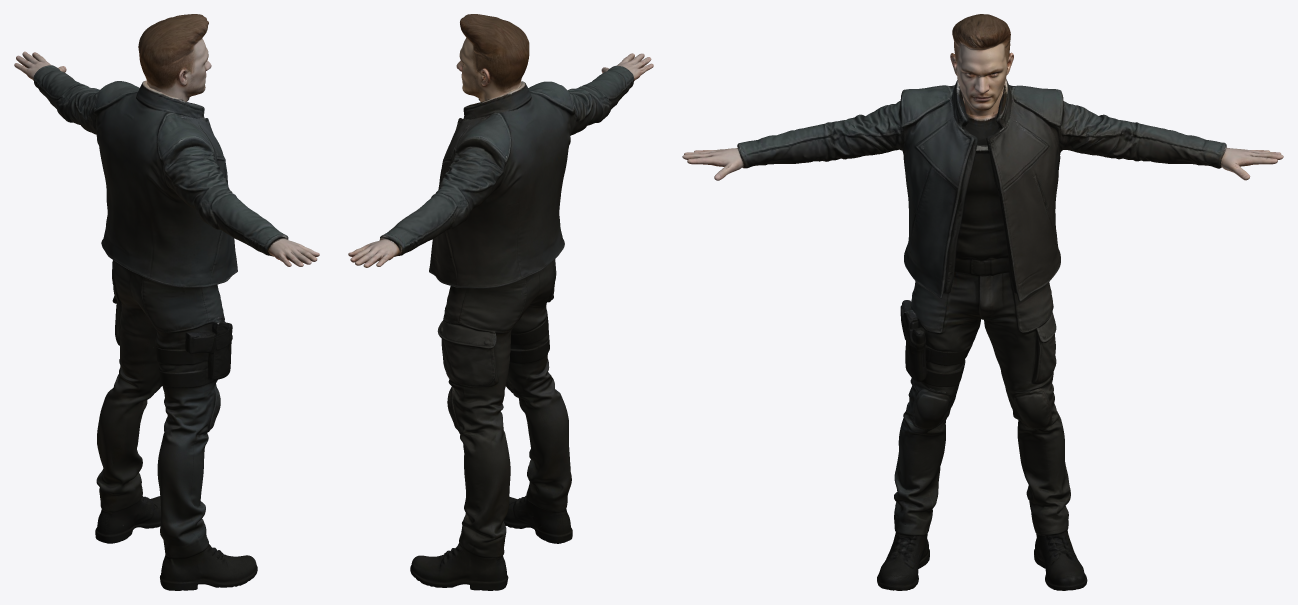
Rendered from Bandit.glb.
3 renders of one model, left to right at view 1: azimuth 30°, elevation 25°; view 2: azimuth 150°, elevation 25°; view 3: azimuth 270°, elevation 25°, orthographic. The views are drawn at different scales.
Visible parts, largest first — view 1: tripo_node_aad4b718-18ca-4720-acda-e26d2857c185; view 2: tripo_node_aad4b718-18ca-4720-acda-e26d2857c185; view 3: tripo_node_aad4b718-18ca-4720-acda-e26d2857c185.
Part boxes in pixels (<box>): tripo_node_aad4b718-18ca-4720-acda-e26d2857c185: <box>14,14,319,590</box>; tripo_node_aad4b718-18ca-4720-acda-e26d2857c185: <box>348,14,653,590</box>; tripo_node_aad4b718-18ca-4720-acda-e26d2857c185: <box>682,14,1283,590</box>.
Bounding box in the file's own units: 0.2021 × 1 × 0.9739.
1 material, 1 textured.
